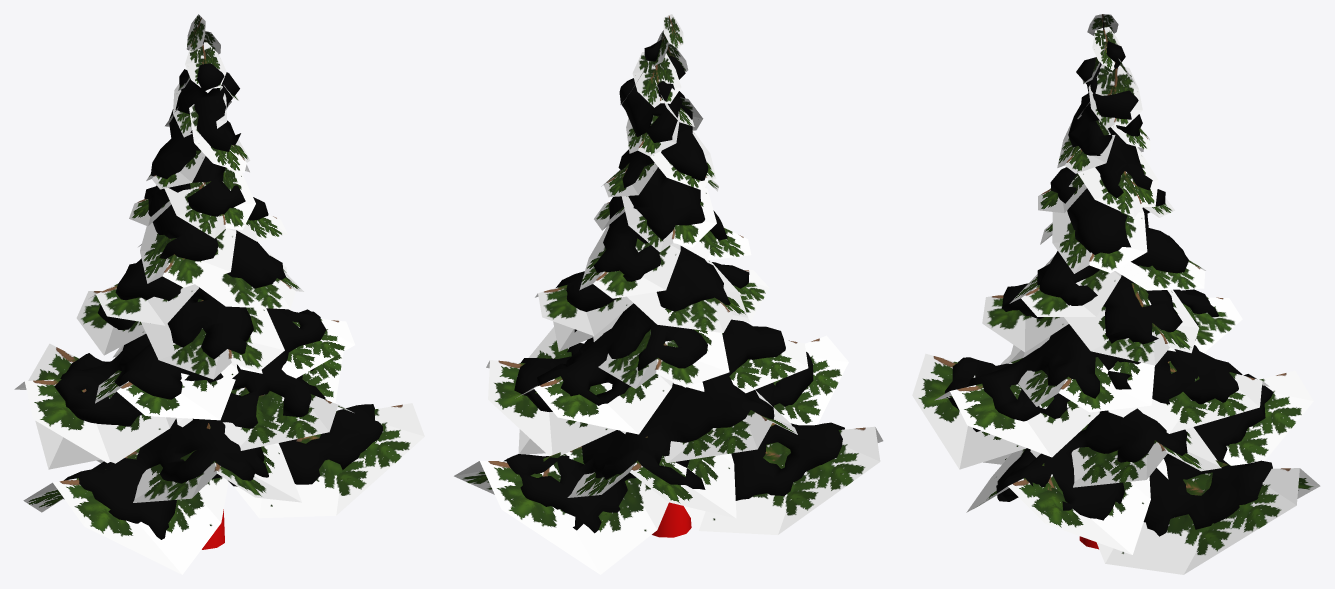
File: puugen.fbx
3 renders of one model, left to right at view 1: azimuth 30°, elevation 25°; view 2: azimuth 150°, elevation 25°; view 3: azimuth 270°, elevation 25°, orthographic. The views are drawn at different scales.
Visible parts, largest first — view 1: Cube; view 2: Cube; view 3: Cube.
Part boxes in pixels (x1,y1,x2,y2): Cube: (14,14,424,574); Cube: (454,14,883,574); Cube: (912,14,1320,574).
Bounding box in the file's own units: 2399 × 3201 × 2255.
Materials: 3 (1 with a texture image).
